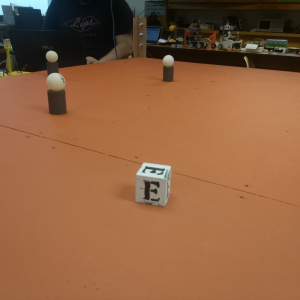obstacle: (46, 73, 67, 116), (161, 53, 176, 83), (45, 50, 59, 76)
